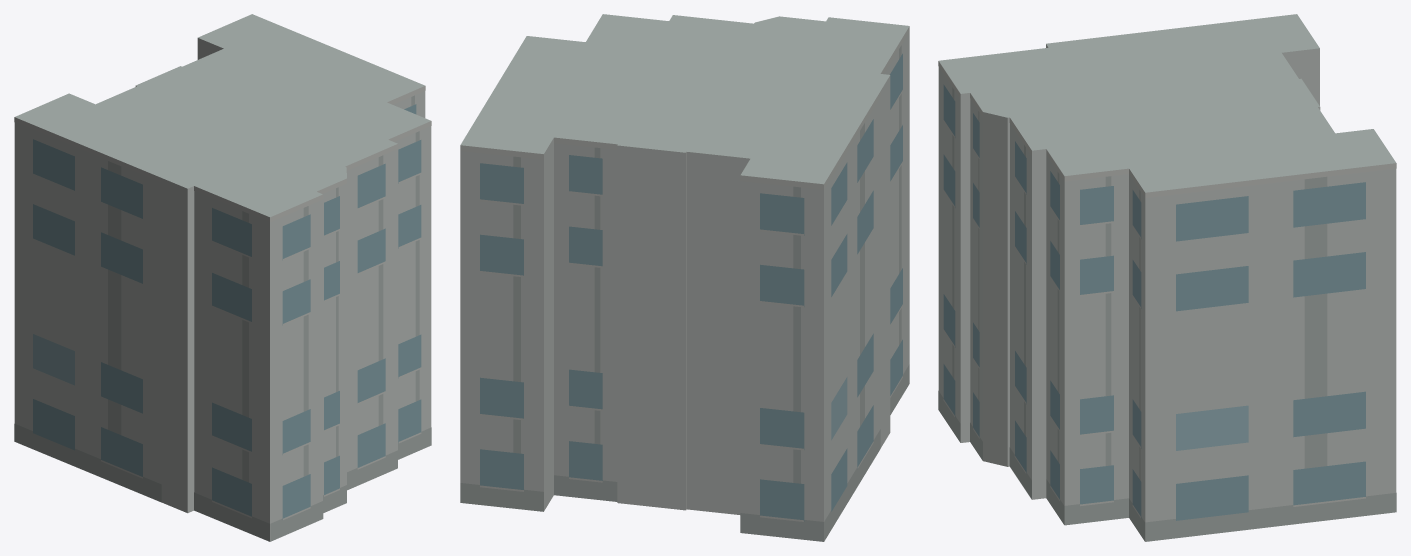
File: survey-upis-32978349.glb
The picture shows the model from 3 angles, left to right: view 1: azimuth 30°, elevation 25°; view 2: azimuth 150°, elevation 25°; view 3: azimuth 270°, elevation 25°; orthographic projection. The views are drawn at different scales.
Visible parts, largest first — view 1: survey-upis-32978349.tmp; view 2: survey-upis-32978349.tmp; view 3: survey-upis-32978349.tmp.
Part boxes in pixels (x1,y1,x2,y2): survey-upis-32978349.tmp: (14, 14, 431, 541); survey-upis-32978349.tmp: (460, 14, 909, 541); survey-upis-32978349.tmp: (938, 14, 1396, 541).
Bounding box in the file's own units: 17.08 × 15.55 × 18.49.
